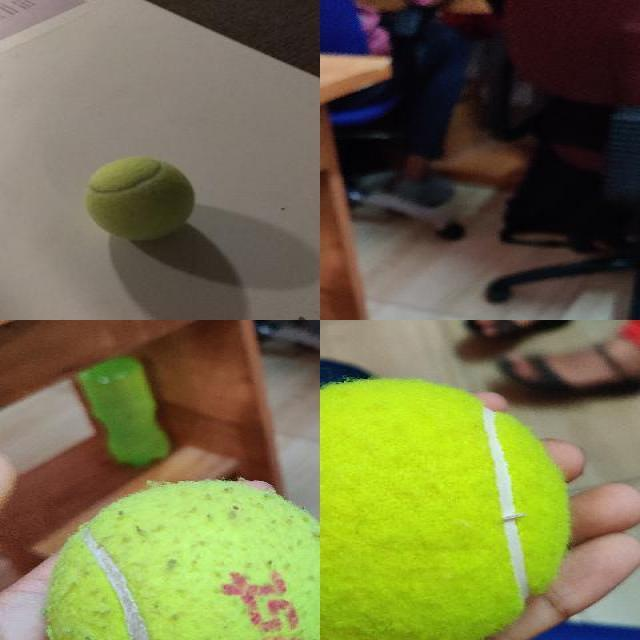tennis-ball: (320, 381, 568, 639), (48, 480, 318, 639), (81, 156, 195, 242)
